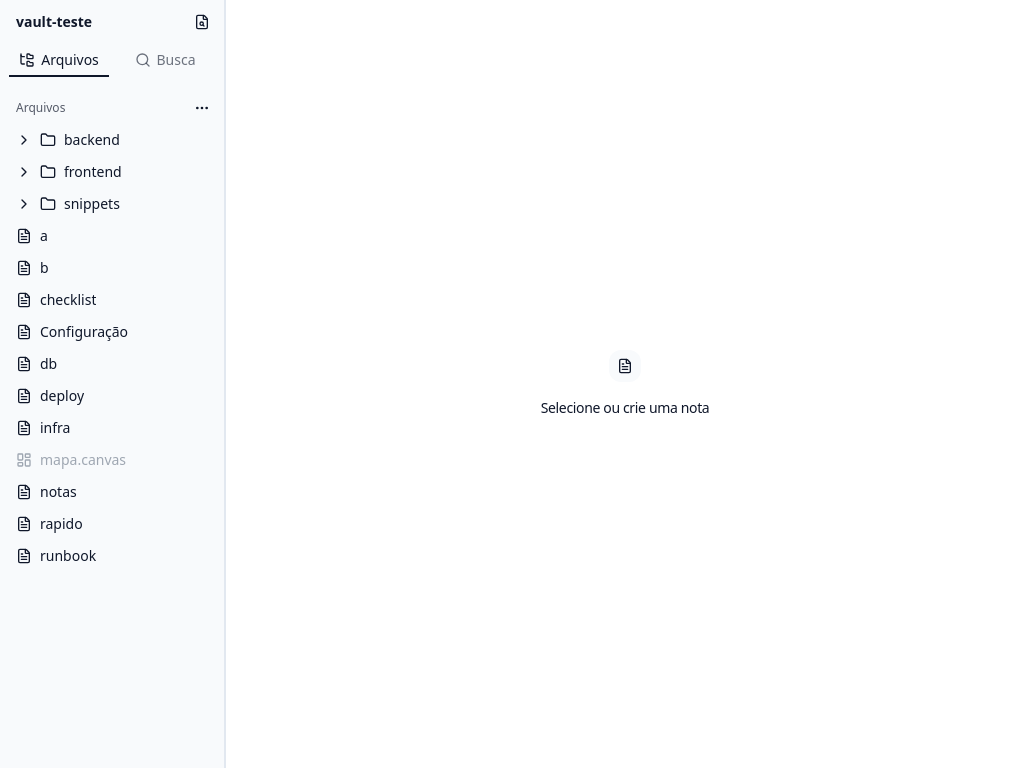
abrir o vault › abrir uma nota mostra o editor com o nome dela
Click the button "deploy": (112, 396) 8,380 -> 216,412
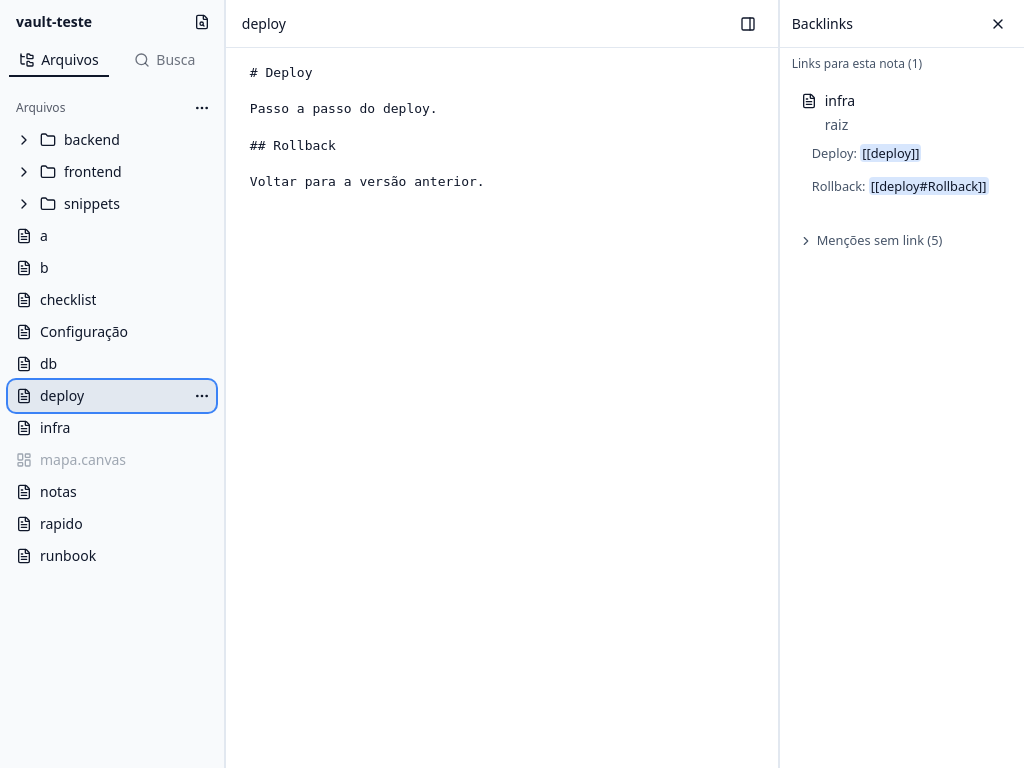
Check: the element "deploy" is shown, box 226,0 -> 778,767
Check: the field named "Conteúdo da nota" shows "Passo a passo do deploy.", box 250,65 -> 485,189
